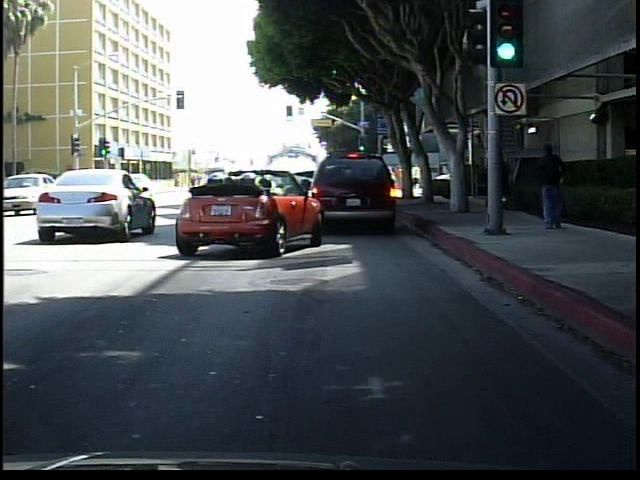person: (534, 139, 568, 233), (484, 146, 512, 217)
